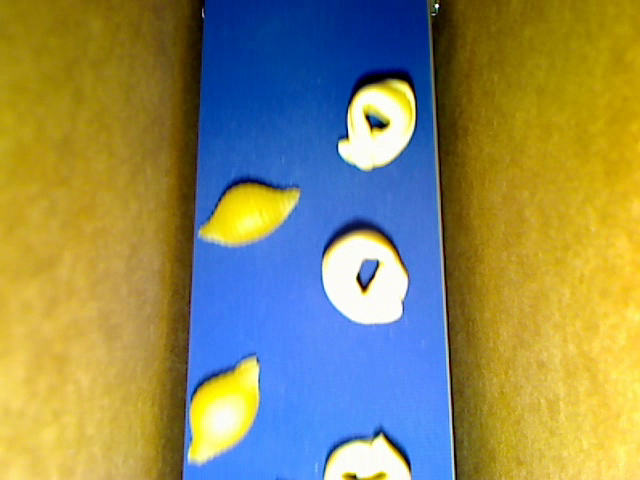shell: (186, 356, 260, 465), (197, 181, 299, 248)
tortellini: (321, 230, 408, 325), (338, 79, 416, 171), (322, 432, 412, 479)
